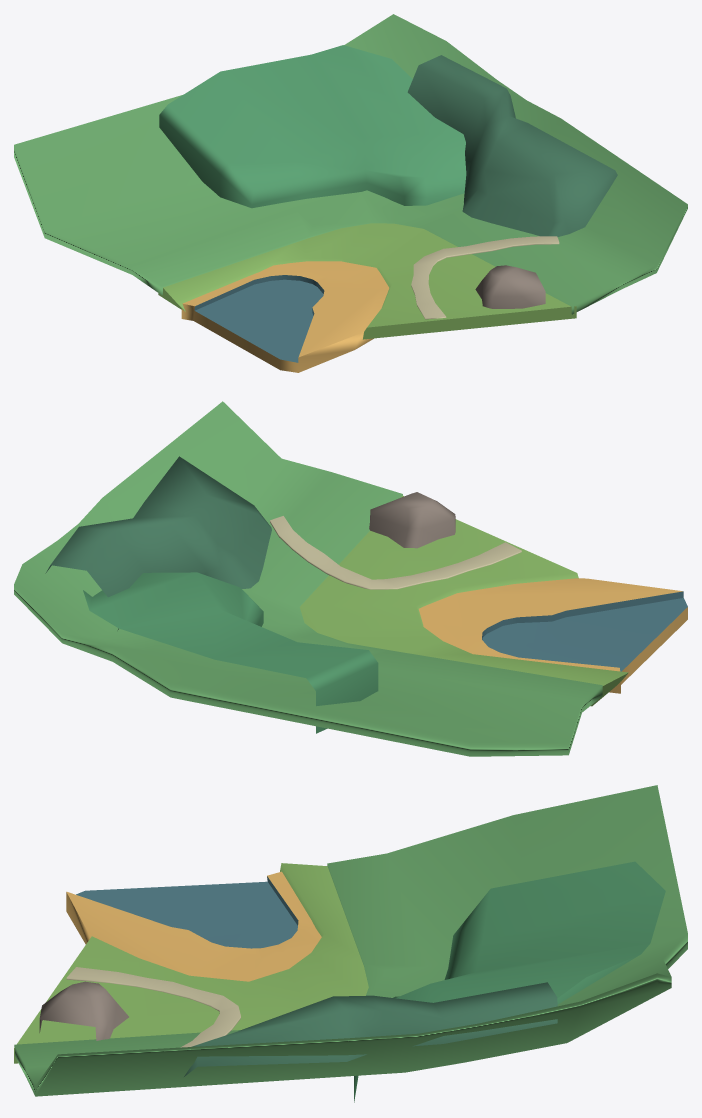
The model's file is ground.gltf.
3 views of the same model, one above another, from view 1: azimuth 30°, elevation 25°; view 2: azimuth 150°, elevation 25°; view 3: azimuth 270°, elevation 25° (orthographic). The views are drawn at different scales.
Parts seen in each view (by area): view 1: ground_mesh; view 2: ground_mesh; view 3: ground_mesh.
Part boxes in pixels (left/top/right/bottom): ground_mesh: left=14, top=14, right=687, bottom=372; ground_mesh: left=14, top=401, right=687, bottom=756; ground_mesh: left=14, top=785, right=687, bottom=1102.
Size of the model in its own units: 29.14 by 6.82 by 28.54.
1 material, 1 textured.
